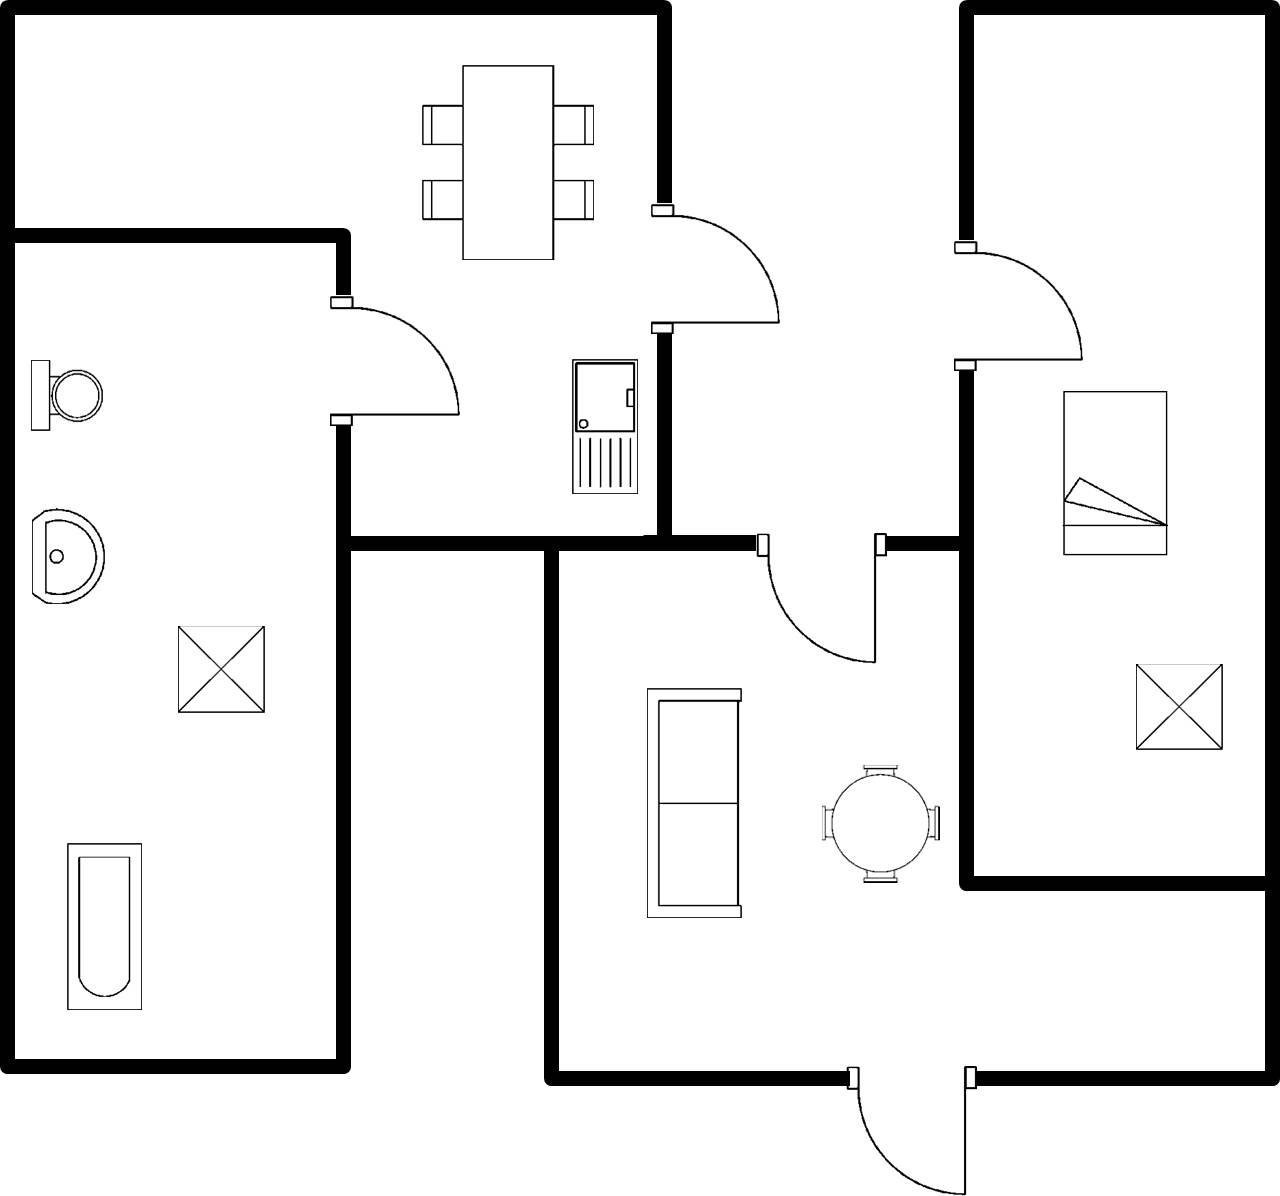bed: (1051, 381, 1178, 567)
coffee_table: (169, 617, 278, 725), (1125, 654, 1232, 761)
dining_table: (416, 56, 604, 271)
large_sink: (24, 354, 105, 441)
large_sofa: (637, 676, 752, 931)
round_table: (813, 755, 949, 893)
sink: (563, 353, 644, 504)
small_sink: (23, 500, 113, 611)
tub: (58, 836, 154, 1020)
